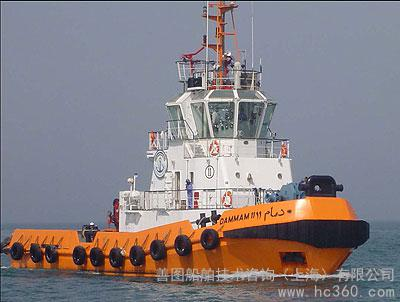otherboat: (2, 11, 373, 275)
